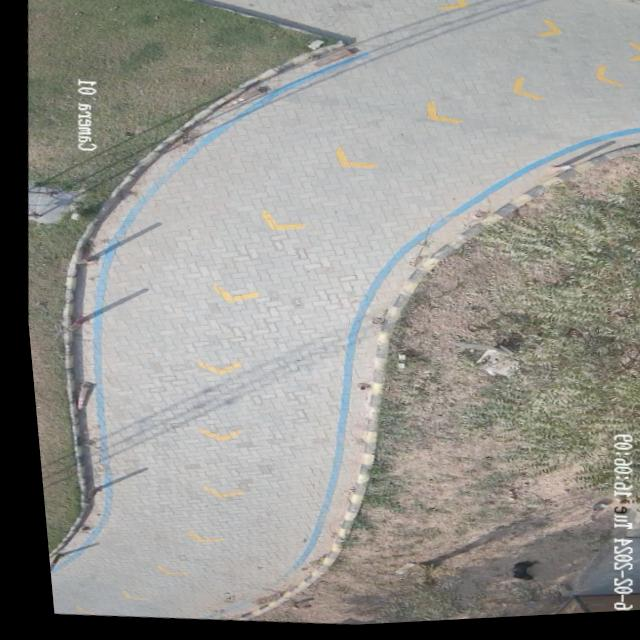No Car: (21, 0, 640, 628)
